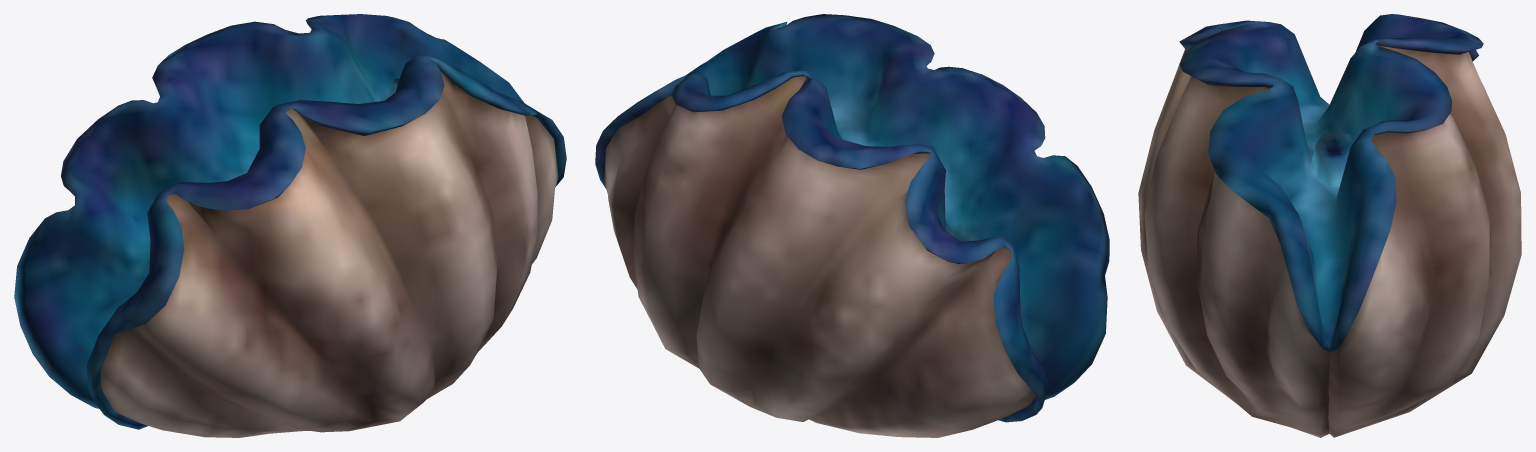
Rendered from gigas-giant-clam.glb.
3 views of the same model, side by side, from view 1: azimuth 30°, elevation 25°; view 2: azimuth 150°, elevation 25°; view 3: azimuth 270°, elevation 25° (orthographic). The views are drawn at different scales.
Bounding box in the file's own units: 10.9 × 7.73 × 7.26.
1 material, 1 textured.
